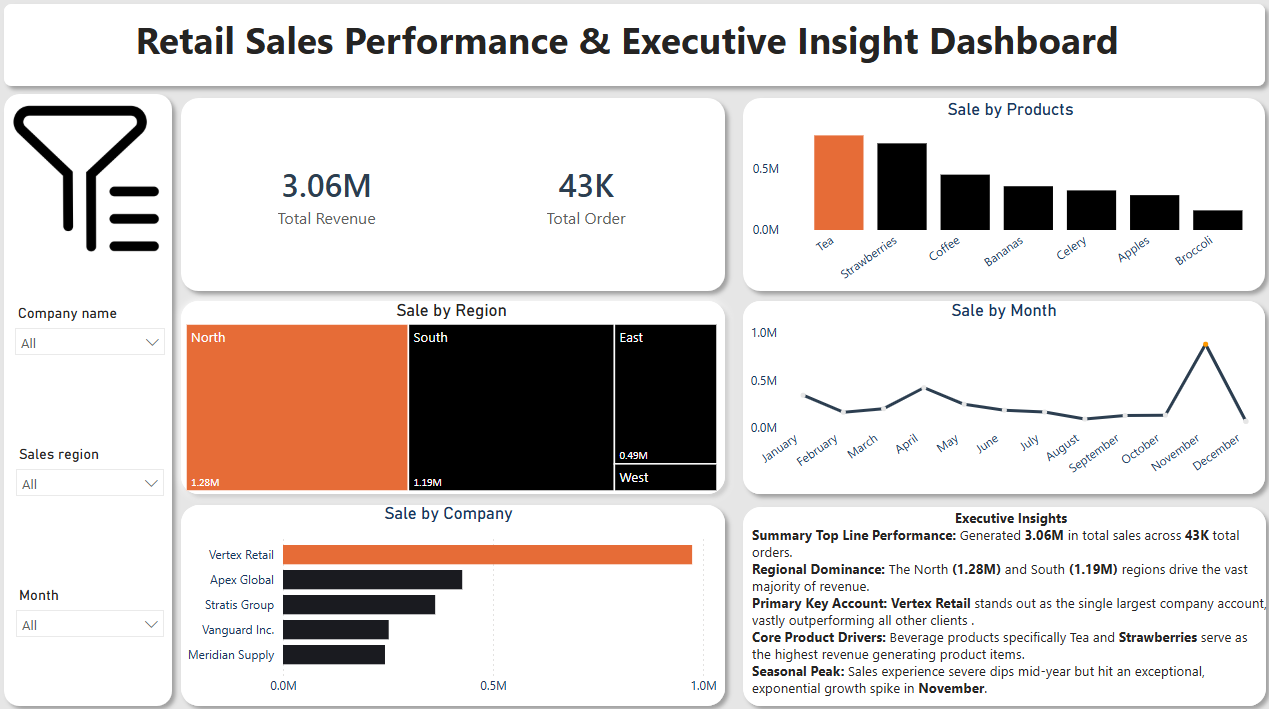

Layout of this report page (visuals, bound fields, positions):
{"tool":"powerbi","page":{"name":"Overviews ","canvas":[1280,720],"ordinal":0},"visuals":[{"type":"shape","box":[0,0,1279,102.1],"z":0},{"type":"textbox","box":[9.7,7.8,1256.7,68.1],"z":1000},{"type":"shape","box":[0,90.5,185.8,625.4],"z":2000},{"type":"slicer","fields":{"Values":["sale_report.Company name"]},"box":[9.7,305.4,170.2,73.9],"z":3000},{"type":"slicer","fields":{"Values":["sale_report.Sales region"]},"box":[10.7,446.4,168.3,81.7],"z":4000},{"type":"shape","box":[177,94.3,562.2,211.1],"z":5000},{"type":"shape","box":[177,296.7,562.2,211.1],"z":6000},{"type":"shape","box":[177,500.9,562.2,218.8],"z":7000},{"type":"shape","box":[739.2,502.9,540.8,216.9],"z":8000},{"type":"shape","box":[739.2,296.7,539.8,211.1],"z":9000},{"type":"shape","box":[739.2,94.3,539.8,211.1],"z":10000},{"type":"treemap","title":"Sale by Region","fields":{"Group":["sale_report.Sales region"],"Values":["Sum(sale_report.Sales amount)"]},"box":[185.8,305.4,540.8,195.5],"z":11000},{"type":"clusteredColumnChart","title":"Sale by Products","fields":{"Category":["sale_report.Product name"],"Y":["Sum(sale_report.Sales amount)"]},"box":[751.9,104.1,527.2,192.6],"z":12000},{"type":"lineChart","title":"Sale by Month","fields":{"Category":["sale_report.Order date.Variation.Date Hierarchy.Month"],"Y":["Sum(sale_report.Sales amount)"]},"box":[746,305.4,526.2,195.5],"z":13000},{"type":"clusteredBarChart","title":"Sale by Company","fields":{"Category":["sale_report.Company name"],"Y":["Sum(sale_report.Sales amount)"]},"box":[179.9,507.7,546.6,201.3],"z":14000},{"type":"textbox","box":[751.9,508.7,528.1,201.3],"z":15000},{"type":"slicer","fields":{"Values":["sale_report.Order date.Variation.Date Hierarchy.Month"]},"box":[10.7,587.5,168.3,74.9],"z":16000},{"type":"image","box":[6.8,100.2,168.3,165.3],"z":17000},{"type":"cardVisual","fields":{"Data":["Sum(sale_report.Order)"]},"box":[463,107,263.6,185.8],"z":18000},{"type":"cardVisual","fields":{"Data":["Sum(sale_report.Sales amount)"]},"box":[193.6,107,269.4,185.8],"z":19000}]}

Visuals, with their boxes in screenshot pixels (x1, y1, x2, y2), scaled from the page's 1280x720 canvas onto the 1269x709 screenshot:
shape: 0:0:1268:101
textbox: 10:8:1256:75
shape: 0:89:184:705
slicer - sale_report.Company name: 10:301:178:374
slicer - sale_report.Sales region: 11:440:177:520
shape: 175:93:733:301
shape: 175:292:733:500
shape: 175:493:733:708
shape: 733:495:1268:708
shape: 733:292:1268:500
shape: 733:93:1268:301
"Sale by Region" treemap: 184:301:720:493
"Sale by Products" clusteredColumnChart: 745:103:1268:292
"Sale by Month" lineChart: 740:301:1261:493
"Sale by Company" clusteredBarChart: 178:500:720:698
textbox: 745:501:1268:699
slicer - sale_report.Order date.Variation.Date Hierarchy.Month: 11:579:177:652
image: 7:99:174:261
cardVisual - Sum(sale_report.Order): 459:105:720:288
cardVisual - Sum(sale_report.Sales amount): 192:105:459:288
